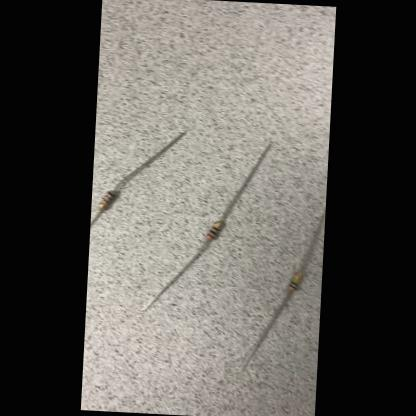resistor: (97, 189, 117, 212), (206, 219, 222, 242), (288, 270, 303, 292)
wire: (142, 238, 210, 314), (113, 128, 186, 194), (238, 290, 292, 375), (219, 142, 272, 223), (298, 207, 324, 272), (90, 210, 103, 224)
